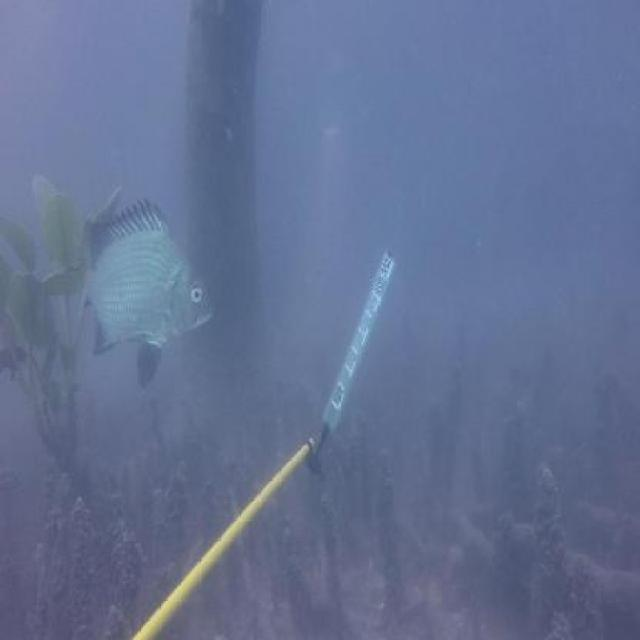acanthopagrus_palmaris: (89, 192, 218, 394)
